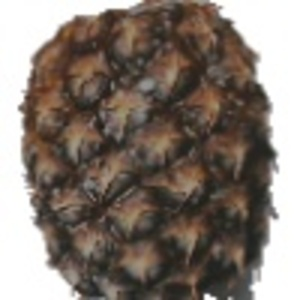abacaxi: (14, 3, 280, 297)
